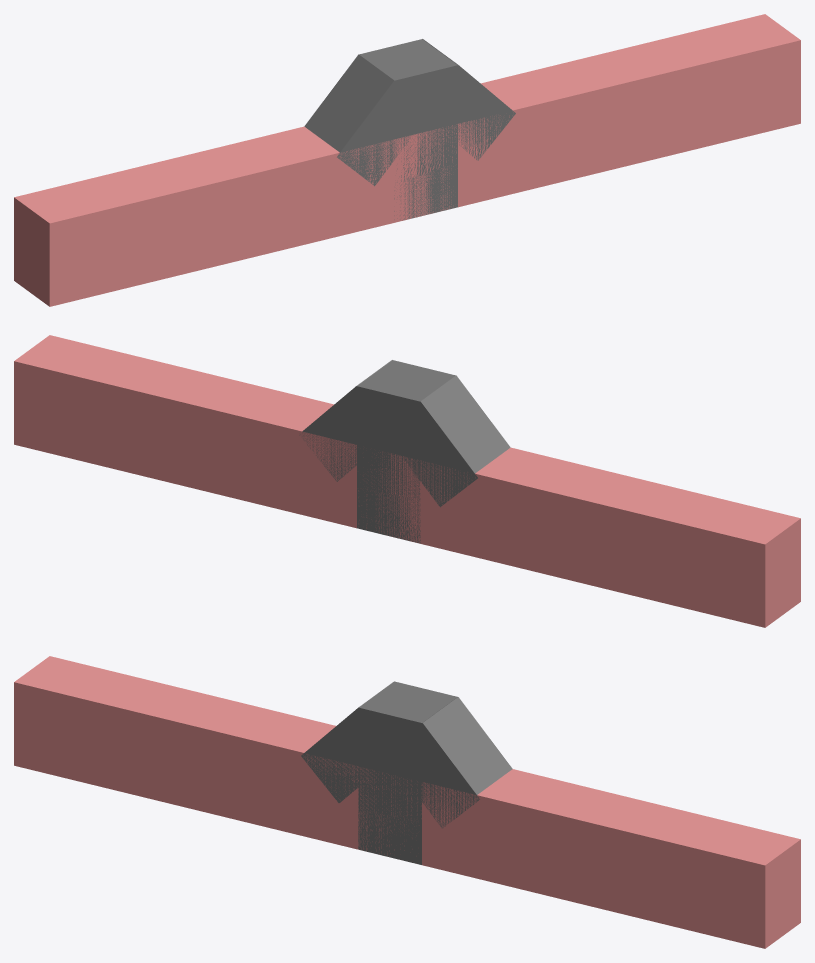
The model's file is Platform2.fbx.
3 views of the same model, one above another, from view 1: azimuth 30°, elevation 25°; view 2: azimuth 150°, elevation 25°; view 3: azimuth 330°, elevation 25° (orthographic).
Parts seen in each view (by area): view 1: Cube, Cube__1_, Cube__3_, Cube__2_; view 2: Cube, Cube__1_, Cube__3_, Cube__2_; view 3: Cube, Cube__1_, Cube__2_, Cube__3_.
Boxes of the visible parts, x1,y1,x2,y2 form: Cube: [14, 14, 800, 306]; Cube__1_: [359, 39, 457, 219]; Cube__3_: [304, 54, 421, 186]; Cube__2_: [422, 39, 515, 160]; Cube: [14, 335, 800, 627]; Cube__1_: [357, 360, 455, 543]; Cube__3_: [390, 375, 510, 507]; Cube__2_: [299, 360, 392, 481]; Cube: [14, 656, 800, 948]; Cube__1_: [358, 681, 457, 864]; Cube__2_: [386, 697, 512, 828]; Cube__3_: [301, 681, 394, 802].
Bounding box in the file's own units: 1212 × 220 × 100.
